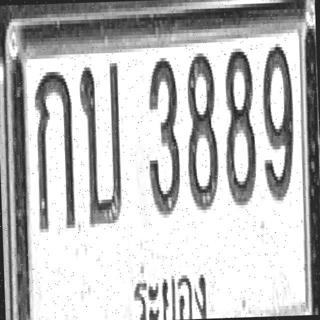A01: (33, 68, 75, 229)
A26: (78, 59, 123, 224)
N03: (144, 54, 181, 215)
N08: (184, 51, 219, 208), (222, 46, 256, 204)
N09: (260, 41, 295, 199)
P53: (128, 260, 214, 320)
